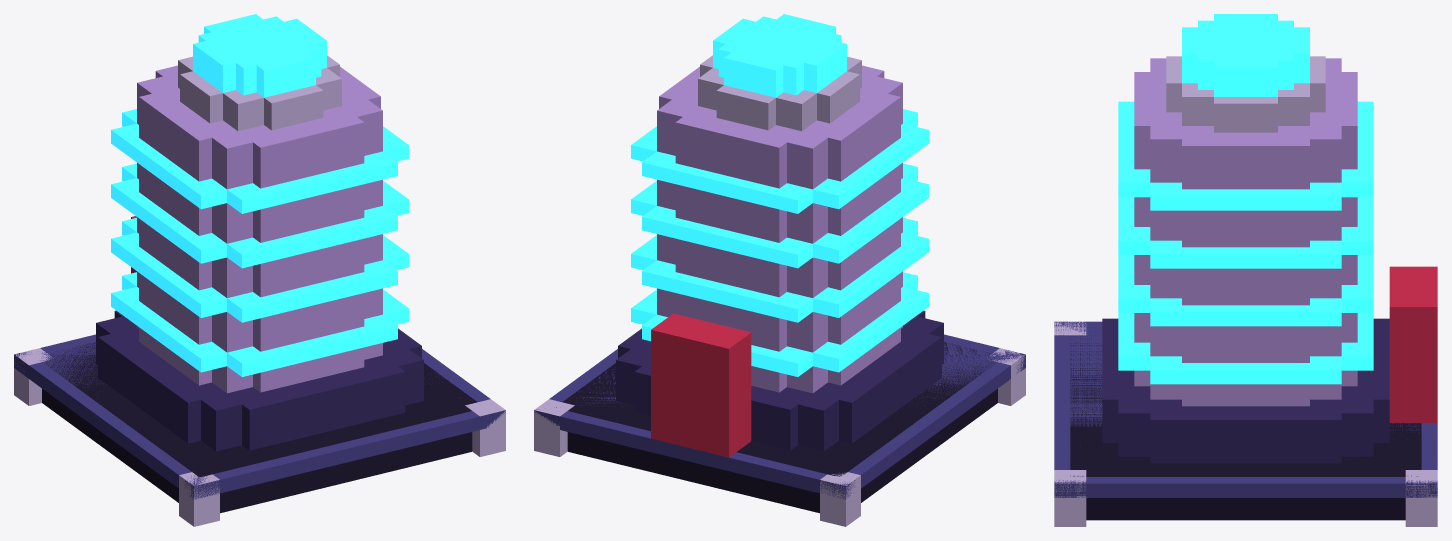
The model's file is shield-generator.md.glb.
3 renders of one model, left to right at view 1: azimuth 30°, elevation 25°; view 2: azimuth 150°, elevation 25°; view 3: azimuth 270°, elevation 25°, orthographic. The views are drawn at different scales.
Visible parts, largest first — view 1: shield-generator.md; view 2: shield-generator.md; view 3: shield-generator.md.
Part boxes in pixels (x1=…): shield-generator.md: x1=14, y1=14, x2=505, y2=526; shield-generator.md: x1=534, y1=14, x2=1025, y2=526; shield-generator.md: x1=1054, y1=14, x2=1437, y2=526.
Bounding box in the file's own units: 1.5 × 1.75 × 1.5.
